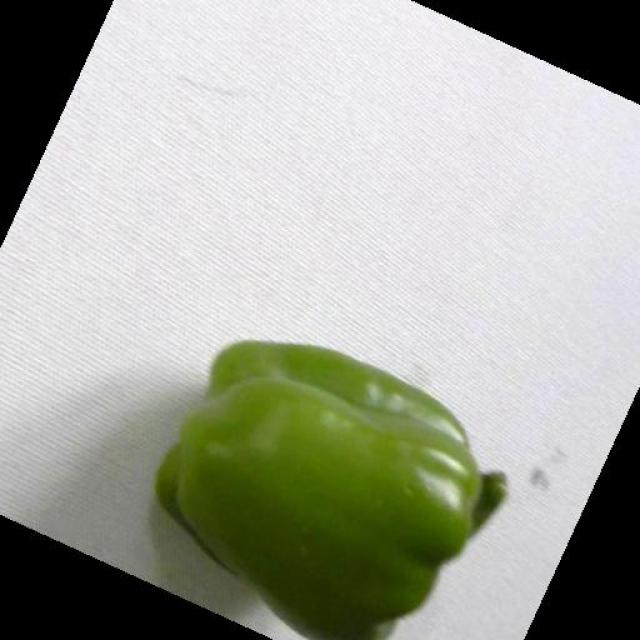Fresh_Capsicum: (181, 318, 508, 627)
